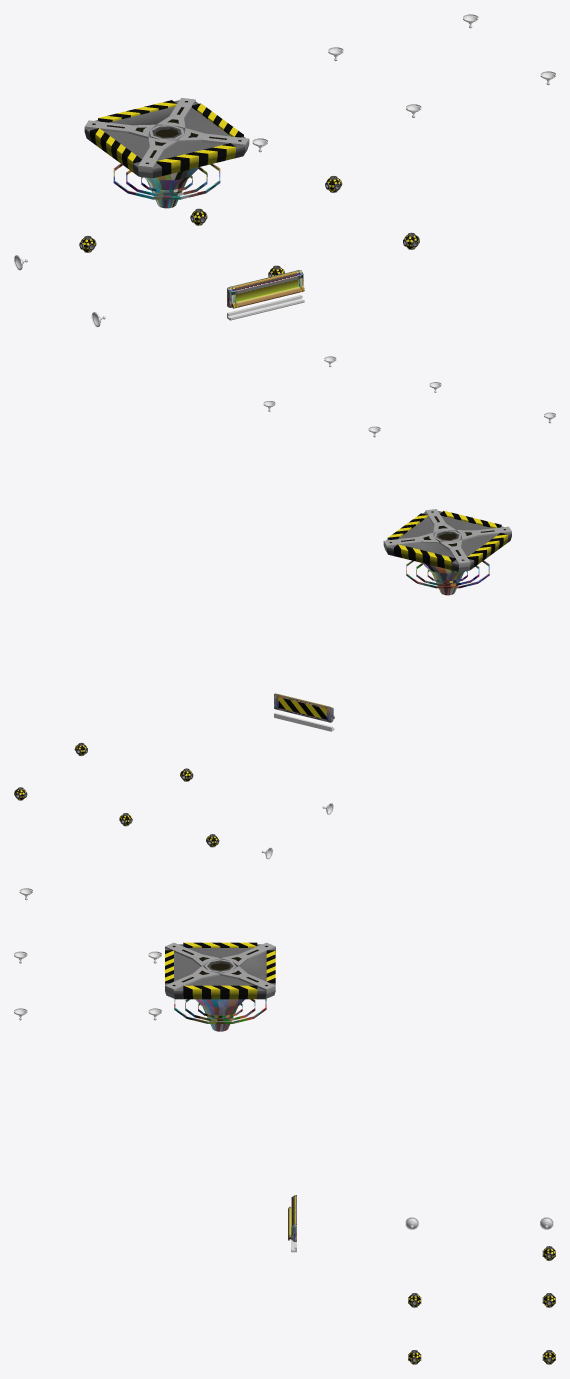
File: PlataformasMoviles02.fbx
The picture shows the model from 3 angles, top to bottom: view 1: azimuth 30°, elevation 25°; view 2: azimuth 150°, elevation 25°; view 3: azimuth 270°, elevation 25°; orthographic projection. The views are drawn at different scales.
Parts seen in each view (by area): view 1: PLTF_Plataforma_00, PLTF_PuentePlataforma_00, PLTF_Cono, PLTF_Trava_00, PLTF_Anillos_01; view 2: PLTF_Plataforma_00, PLTF_PuentePlataforma_00; view 3: PLTF_Plataforma_00, PLTF_Cono.
Boxes of the visible parts, x1,y1,x2,y2 form: PLTF_Plataforma_00: [84, 97, 249, 178]; PLTF_PuentePlataforma_00: [227, 270, 304, 308]; PLTF_Cono: [144, 167, 199, 208]; PLTF_Trava_00: [227, 295, 304, 320]; PLTF_Anillos_01: [113, 163, 220, 199]; PLTF_Plataforma_00: [383, 509, 511, 571]; PLTF_PuentePlataforma_00: [274, 693, 334, 722]; PLTF_Plataforma_00: [165, 942, 275, 999]; PLTF_Cono: [195, 999, 244, 1031].
Size of the model in its own units: 223 by 184 by 289.
Materials: 1 (1 with a texture image).
